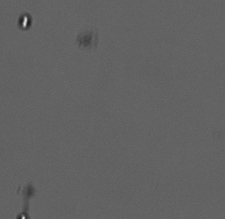Dead Cell: (76, 30, 99, 49)
Living Cell: (16, 12, 35, 31)
